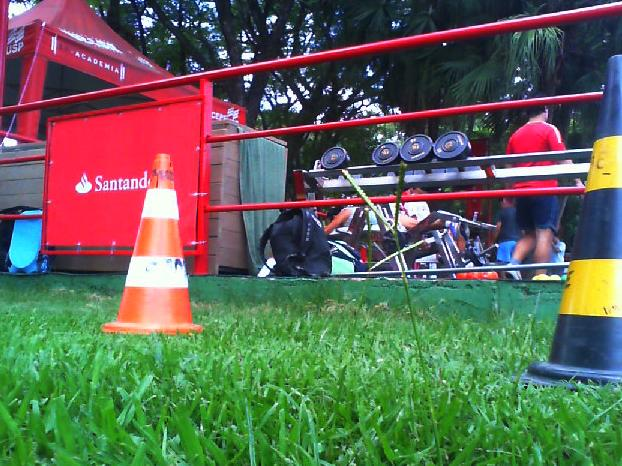0 cone: (511, 54, 622, 394), (102, 153, 202, 335)
